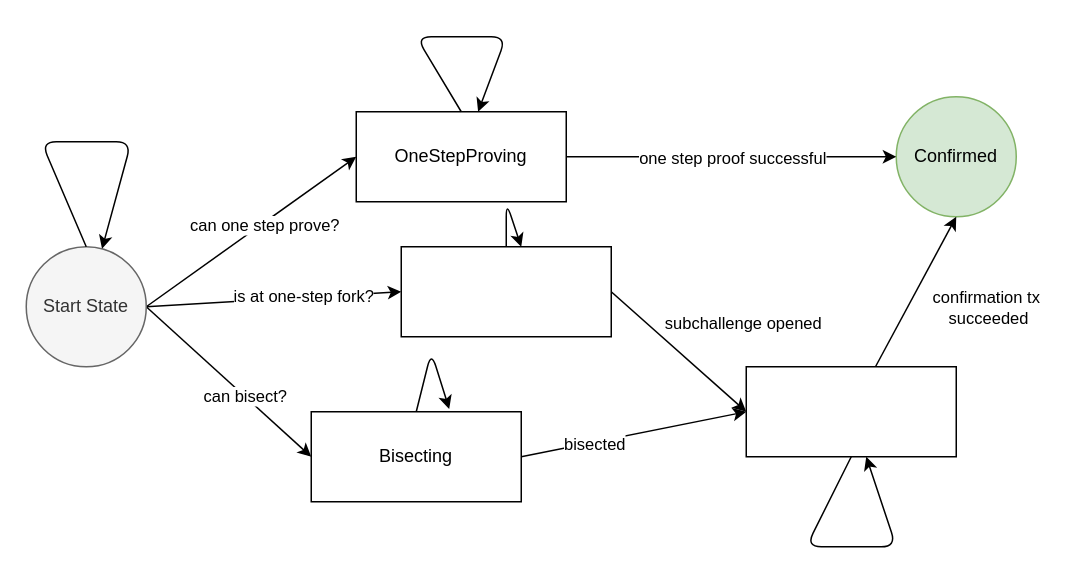
This 1067x585 diagram has some shape labels left out. Each missing label, with the centre of its shape:
"AwaitingConfirmation" belongs at (x=850, y=411).
"OpeningSubchallenge" belongs at (x=505, y=291).
